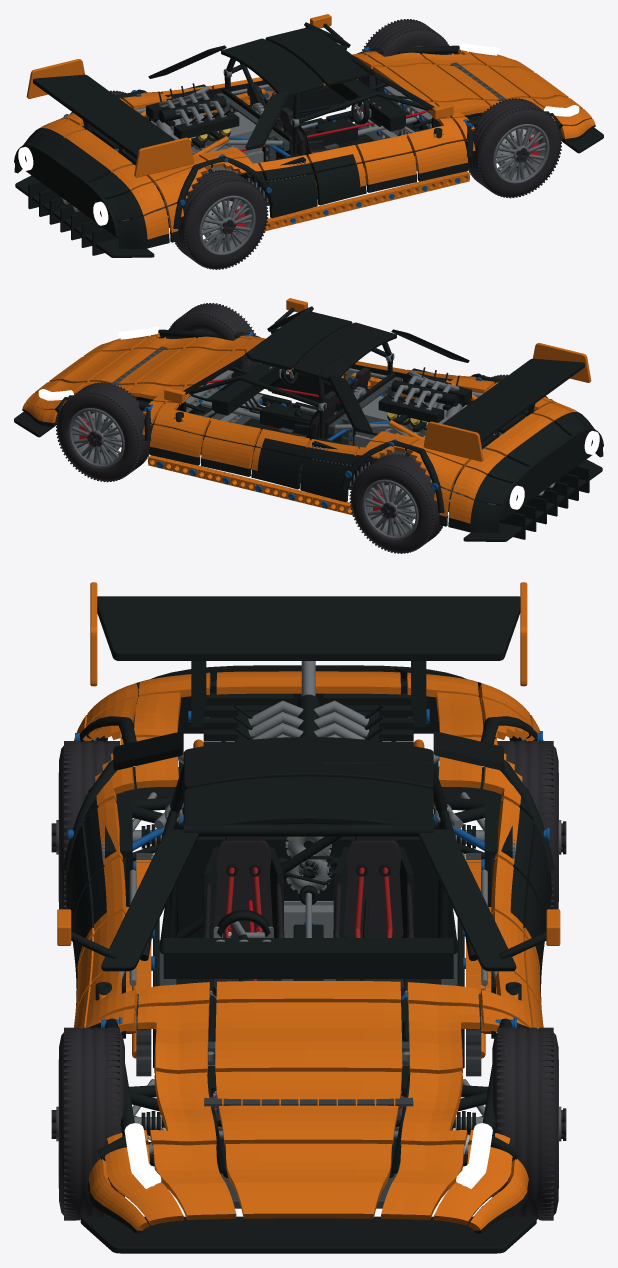
3 renders of one model, top to bottom at view 1: azimuth 30°, elevation 25°; view 2: azimuth 150°, elevation 25°; view 3: azimuth 270°, elevation 25°, orthographic. The views are drawn at different scales.
Parts seen in each view (by area): view 1: aleron_trasero, rueda_del_izq, rueda_tras_izq, panel_techo_0, panel_techo_1, panel_trasera, talonera_izq, panel_carroceria_04, llanta_del_izq, llanta_tras_izq, difusor, rueda_del_der (+56 smaller); view 2: aleron_trasero, rueda_del_der, rueda_tras_der, panel_techo_0, panel_techo_1, panel_trasera, talonera_der, panel_carroceria_04, llanta_del_der, llanta_tras_der, difusor, rueda_del_izq (+56 smaller); view 3: aleron_trasero, splitter_del, panel_carroceria_53, panel_carroceria_60, salpicadero, panel_carroceria_67, panel_techo_1, rueda_del_der, rueda_del_izq, panel_techo_0, asiento_der, asiento_izq (+70 smaller).
Part boxes in pixels (bbox=[...]): aleron_trasero: bbox=[33, 74, 175, 158]; rueda_del_izq: bbox=[465, 98, 561, 198]; rueda_tras_izq: bbox=[175, 170, 268, 269]; panel_techo_0: bbox=[221, 38, 323, 97]; panel_techo_1: bbox=[265, 27, 368, 85]; panel_trasera: bbox=[14, 144, 118, 237]; talonera_izq: bbox=[264, 171, 469, 231]; panel_carroceria_04: bbox=[47, 129, 132, 182]; llanta_del_izq: bbox=[493, 124, 549, 184]; llanta_tras_izq: bbox=[199, 195, 255, 255]; difusor: bbox=[28, 182, 121, 255]; rueda_del_der: bbox=[357, 19, 452, 91]; aleron_trasero: bbox=[442, 358, 584, 442]; rueda_del_der: bbox=[56, 382, 152, 482]; rueda_tras_der: bbox=[349, 454, 442, 553]; panel_techo_0: bbox=[294, 322, 396, 381]; panel_techo_1: bbox=[249, 311, 352, 369]; panel_trasera: bbox=[499, 428, 603, 521]; talonera_der: bbox=[148, 455, 353, 515]; panel_carroceria_04: bbox=[485, 413, 570, 466]; llanta_del_der: bbox=[68, 408, 124, 468]; llanta_tras_der: bbox=[362, 479, 418, 539]; difusor: bbox=[496, 466, 589, 539]; rueda_del_izq: bbox=[165, 303, 260, 375]; aleron_trasero: bbox=[97, 596, 520, 660]; splitter_del: bbox=[80, 1216, 536, 1253]; panel_carroceria_53: bbox=[215, 1002, 402, 1073]; panel_carroceria_60: bbox=[215, 1071, 401, 1145]; salpicadero: bbox=[163, 938, 453, 978]; panel_carroceria_67: bbox=[225, 1143, 391, 1218]; panel_techo_1: bbox=[183, 776, 433, 824]; rueda_del_der: bbox=[492, 1027, 558, 1220]; rueda_del_izq: bbox=[59, 1027, 124, 1220]; panel_techo_0: bbox=[183, 737, 433, 790]; asiento_der: bbox=[333, 836, 414, 996]; asiento_izq: bbox=[203, 836, 284, 996].
Size of the model in its own units: 0.48 by 0.128 by 0.216.
